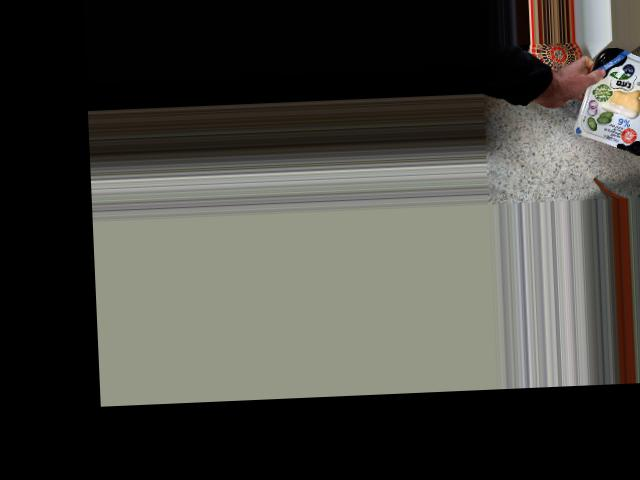cheese: (580, 58, 640, 147)
